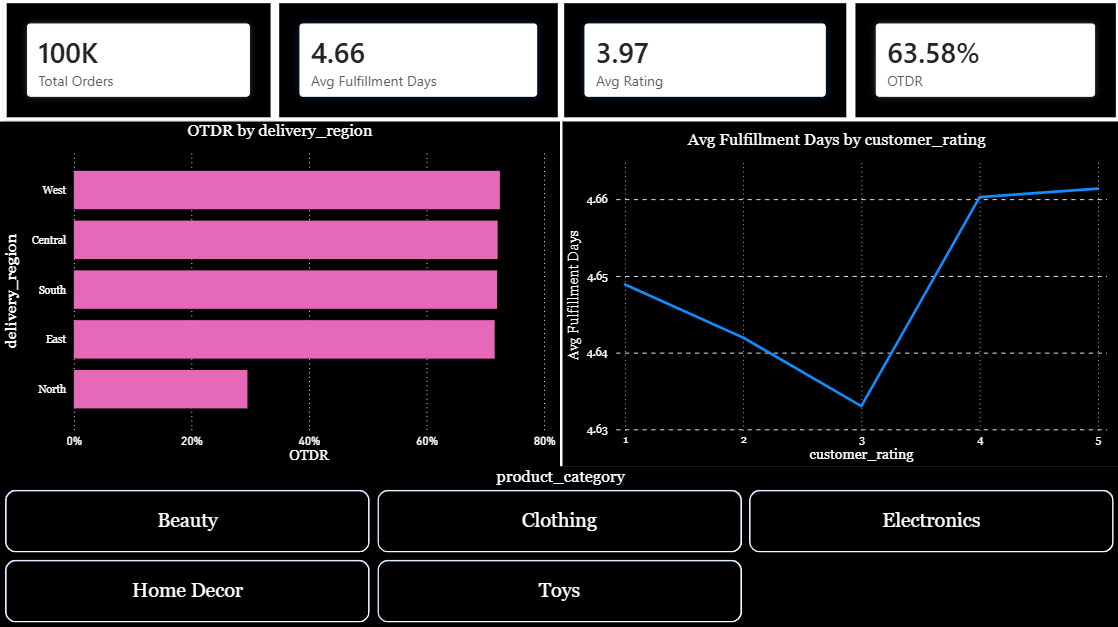

Layout of this report page (visuals, bound fields, positions):
{"tool":"powerbi","page":{"name":"Page 1","canvas":[1280,720],"ordinal":0},"visuals":[{"type":"cardVisual","fields":{"Data":["ecommerce_fulfillment_data.Total Orders"]},"box":[2.9,0,311.4,140],"z":0},{"type":"cardVisual","fields":{"Data":["ecommerce_fulfillment_data.OTDR %"]},"box":[972.9,0,307.1,140],"z":1000},{"type":"cardVisual","fields":{"Data":["ecommerce_fulfillment_data.Avg Rating"]},"box":[640,0,332.9,140],"z":2000},{"type":"cardVisual","fields":{"Data":["ecommerce_fulfillment_data.Avg Fulfillment Days"]},"box":[314.3,0,328.6,140],"z":3000},{"type":"clusteredBarChart","fields":{"Category":["ecommerce_fulfillment_data.delivery_region"],"Y":["ecommerce_fulfillment_data.OTDR %"]},"box":[0,140,640,395],"z":4000},{"type":"advancedSlicerVisual","fields":{"Values":["ecommerce_fulfillment_data.product_category"]},"box":[0,534.3,1280,185.7],"z":5000},{"type":"lineChart","fields":{"Category":["ecommerce_fulfillment_data.customer_rating"],"Y":["ecommerce_fulfillment_data.Avg Fulfillment Days"]},"box":[642.9,140,637.1,394.3],"z":6000}]}

Visuals, with their boxes in screenshot pixels (x1, y1, x2, y2), scaled from the page's 1280x720 canvas onto the 1118x627 screenshot:
cardVisual - ecommerce_fulfillment_data.Total Orders: x1=3 y1=0 x2=275 y2=122
cardVisual - ecommerce_fulfillment_data.OTDR %: x1=850 y1=0 x2=1117 y2=122
cardVisual - ecommerce_fulfillment_data.Avg Rating: x1=559 y1=0 x2=850 y2=122
cardVisual - ecommerce_fulfillment_data.Avg Fulfillment Days: x1=275 y1=0 x2=562 y2=122
clusteredBarChart - ecommerce_fulfillment_data.delivery_region x ecommerce_fulfillment_data.OTDR %: x1=0 y1=122 x2=559 y2=466
advancedSlicerVisual - ecommerce_fulfillment_data.product_category: x1=0 y1=465 x2=1117 y2=626
lineChart - ecommerce_fulfillment_data.customer_rating x ecommerce_fulfillment_data.Avg Fulfillment Days: x1=562 y1=122 x2=1117 y2=465
